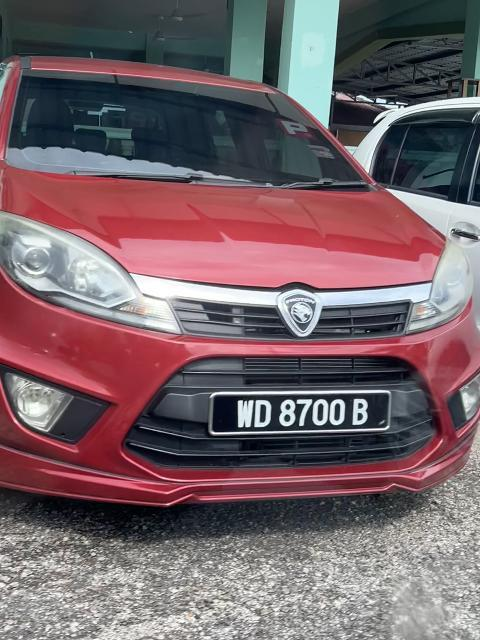License_Plate: (204, 385, 396, 441)
WD8700B: (204, 385, 396, 441)
car: (1, 53, 480, 514)
